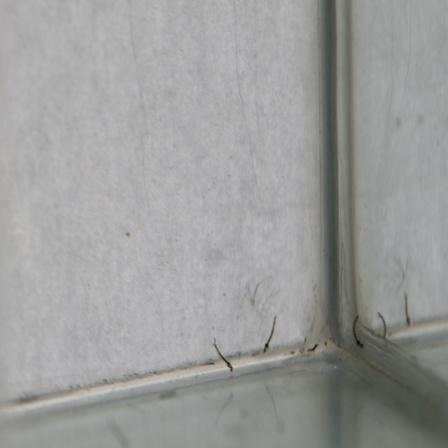Jentik-Nyamuk: (212, 339, 237, 374), (261, 314, 281, 354), (349, 311, 367, 351)
